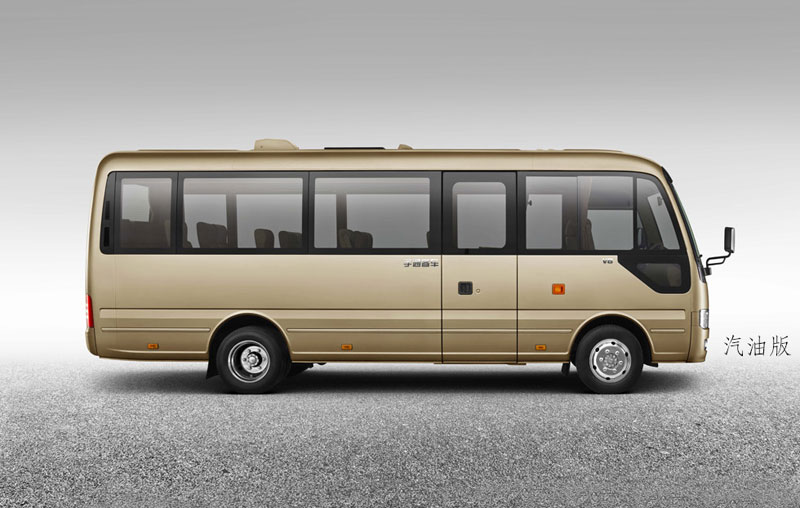midcar: (79, 126, 734, 410)
